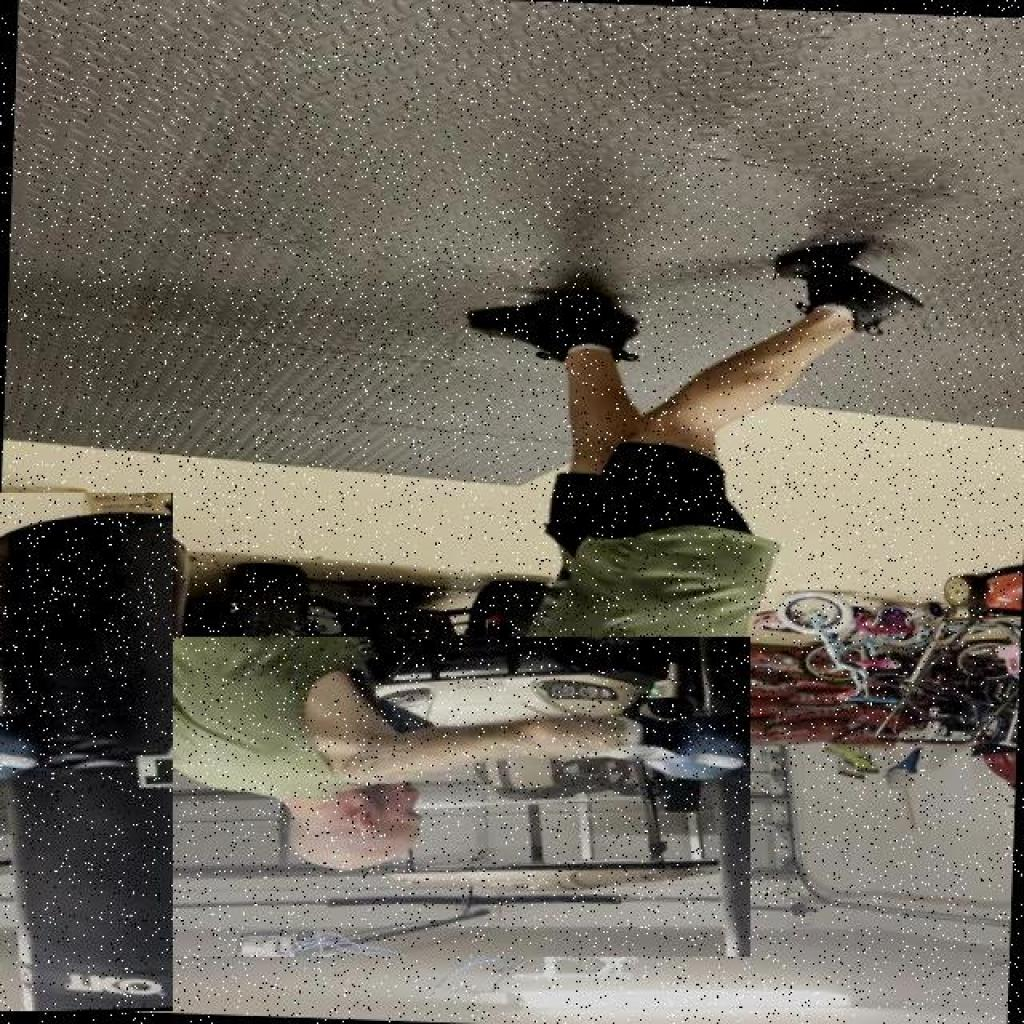bag: (0, 493, 172, 1010)
cross: (130, 636, 750, 958)
